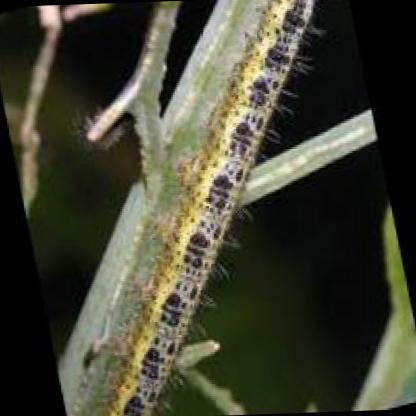pieris: (110, 5, 315, 416)
